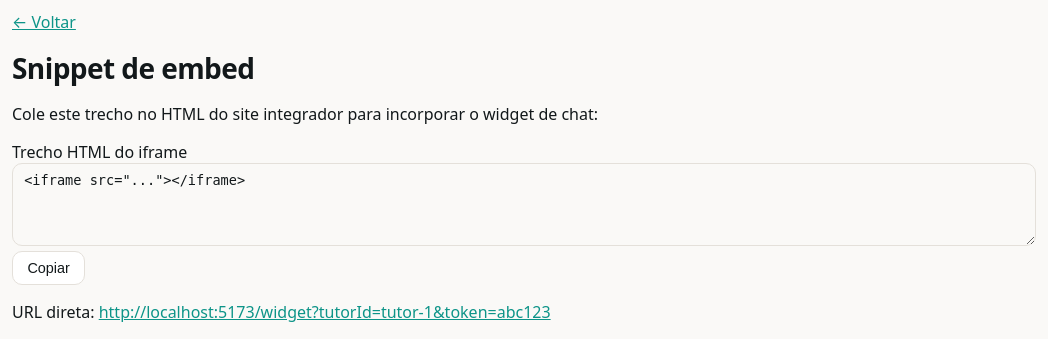
EmbedSnippetPage › copies the snippet when the clipboard API is available
Click the button "Copiar": (49, 268) [12,251,85,285]
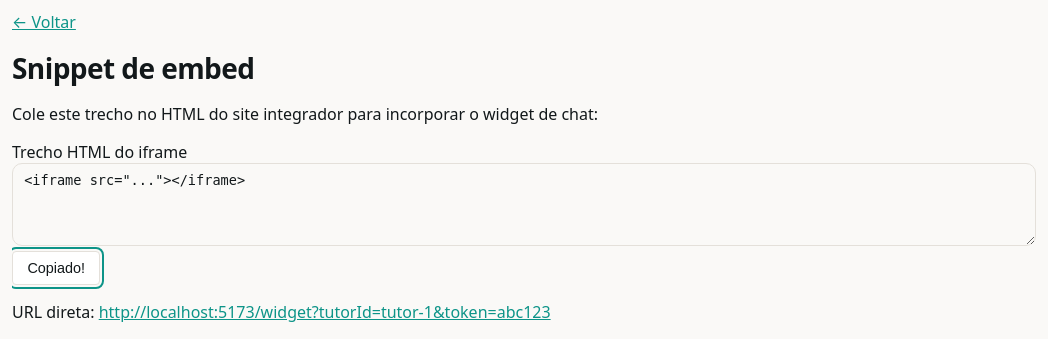
Expected: the button reads "Copiado!", [12,251,100,285]
